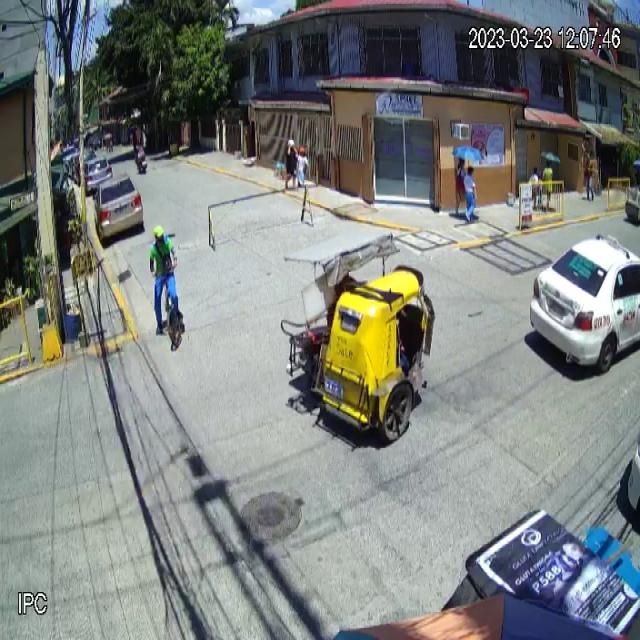Car: (528, 232, 640, 372)
Tricycle: (280, 227, 438, 445)
